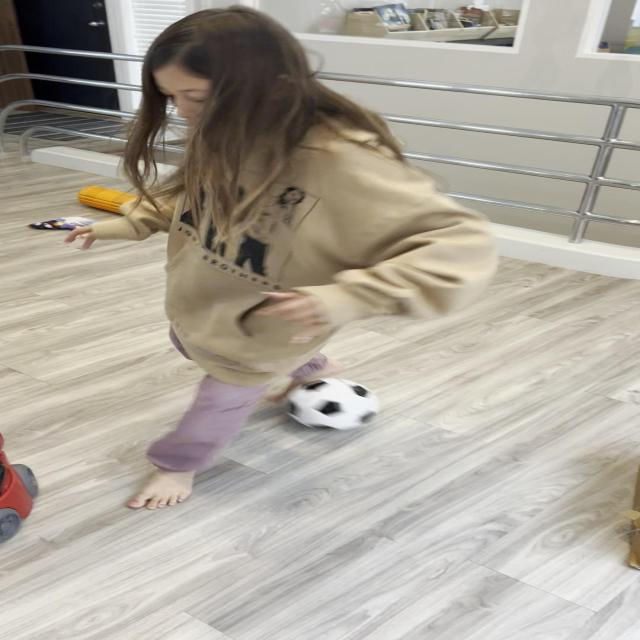Soccer Ball: (280, 378, 380, 429)
